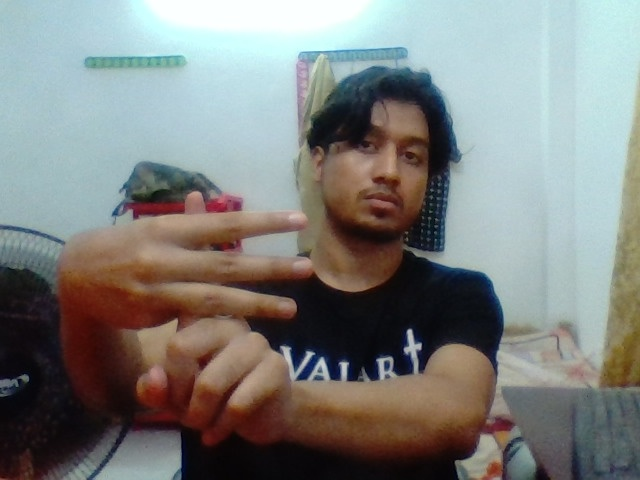E: (137, 191, 324, 429)
